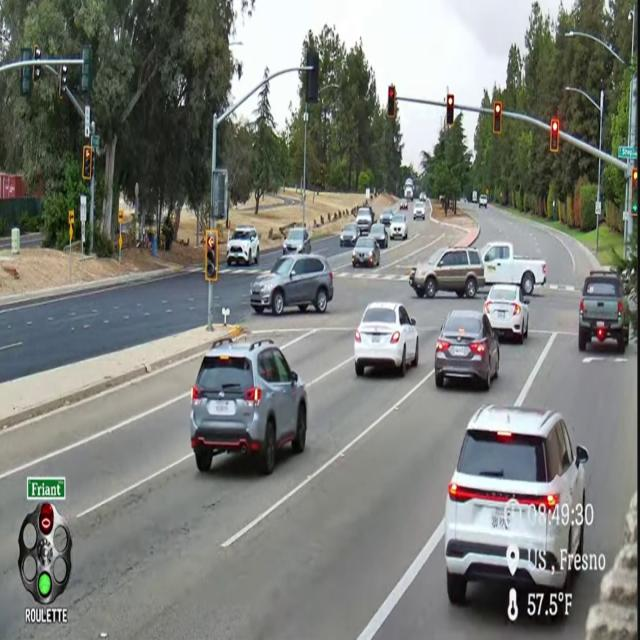car: (445, 406, 592, 605), (191, 339, 307, 474), (434, 310, 499, 390), (250, 254, 333, 315), (354, 303, 418, 375), (409, 247, 485, 299), (484, 285, 529, 343), (226, 226, 260, 266), (352, 236, 379, 268), (283, 228, 311, 255), (389, 212, 408, 240), (340, 222, 360, 247), (356, 208, 374, 235), (369, 223, 388, 248), (379, 209, 393, 226), (413, 201, 425, 220), (479, 195, 487, 208), (400, 199, 407, 210), (420, 192, 426, 201)
traffic signal: (204, 229, 218, 282), (306, 49, 319, 103), (81, 45, 92, 95), (82, 145, 93, 181), (20, 66, 32, 96), (550, 119, 559, 153), (387, 85, 396, 119), (59, 65, 68, 99), (493, 101, 502, 135), (631, 168, 637, 217), (446, 94, 454, 127), (32, 65, 41, 82)
truck: (578, 271, 629, 353), (481, 242, 546, 295), (404, 186, 413, 200), (472, 191, 477, 203)
